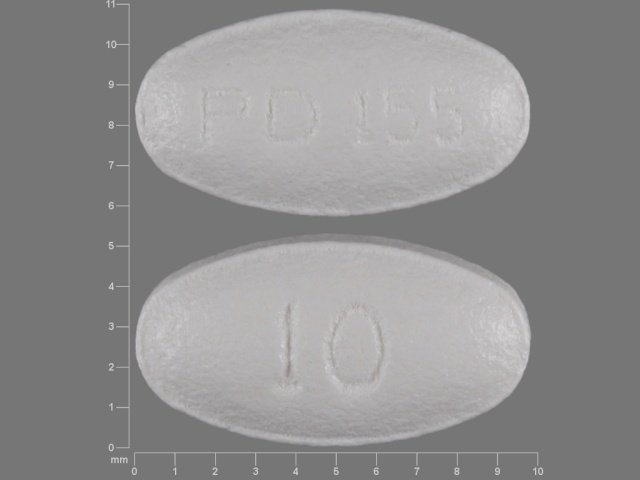0: (318, 299, 396, 397)
1: (271, 293, 307, 398), (350, 89, 380, 147)
5: (424, 83, 477, 151), (381, 82, 424, 148)
D: (264, 84, 317, 143)
P: (196, 86, 252, 149)
